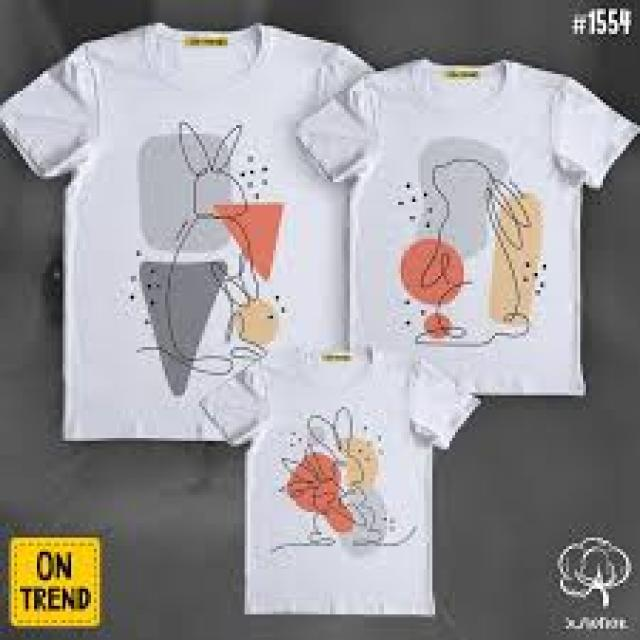Shirt: (8, 18, 363, 437), (284, 43, 632, 410), (189, 326, 484, 634)
